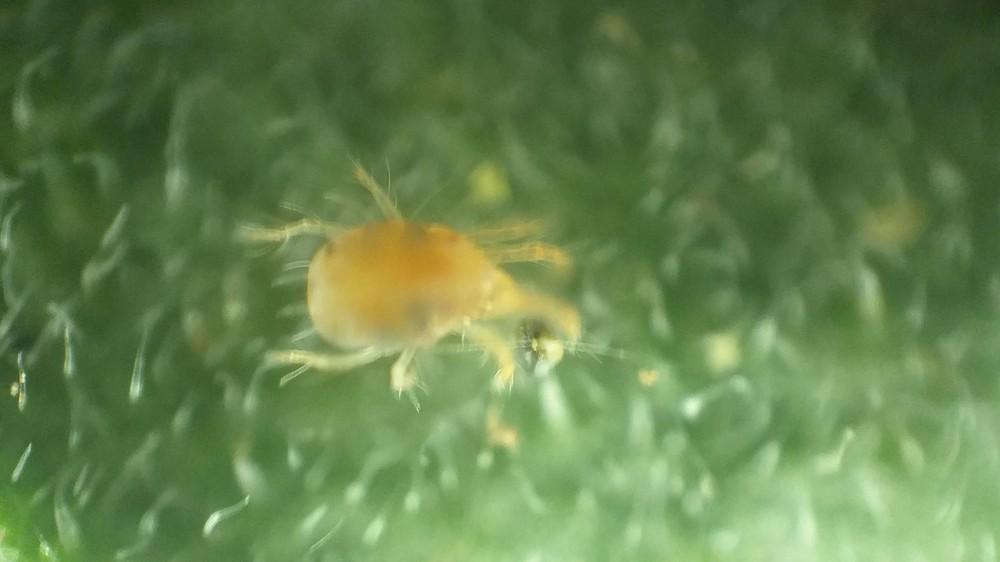Aracnido Rojo: (221, 144, 617, 423)
